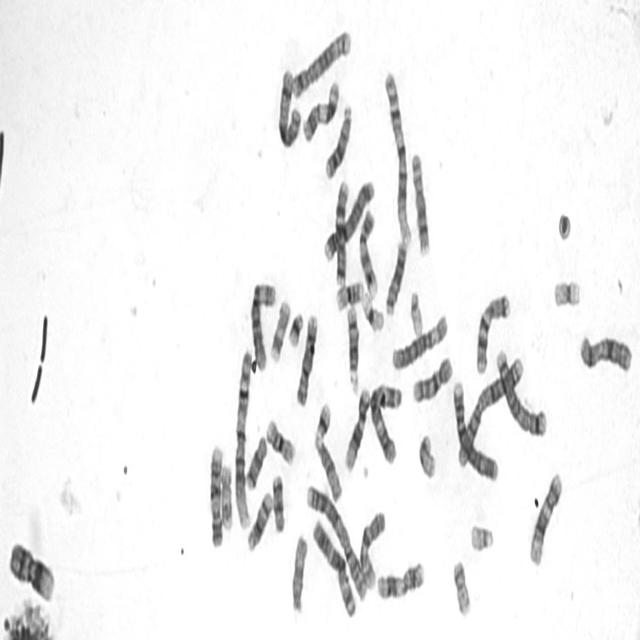A1: (381, 62, 412, 247), (231, 342, 253, 532)
A2: (453, 347, 525, 469), (303, 477, 368, 605)
A3: (309, 511, 358, 620), (366, 374, 404, 467)
B4: (449, 373, 499, 484), (321, 172, 376, 263)
B5: (493, 342, 548, 438), (289, 22, 353, 100)
C10: (356, 503, 387, 593), (409, 348, 454, 405)
C11: (300, 73, 340, 144), (374, 554, 426, 603)
C12: (526, 464, 563, 568), (341, 380, 371, 473)
C6: (388, 305, 449, 372), (247, 274, 278, 372)
C7: (472, 284, 512, 376), (332, 173, 351, 287)
C8: (293, 306, 319, 408), (408, 144, 431, 258)
C9: (356, 201, 380, 300), (207, 436, 224, 550)
D13: (322, 95, 354, 181), (382, 232, 408, 316)
D14: (244, 484, 273, 553), (343, 298, 360, 394)
D15: (312, 430, 343, 504), (288, 527, 308, 615)
E16: (262, 410, 296, 467), (333, 274, 364, 313)
E17: (267, 292, 291, 364), (218, 458, 234, 531)
E18: (243, 428, 268, 491), (269, 467, 286, 535)
F19: (358, 285, 385, 335), (550, 269, 582, 310)
F20: (449, 553, 472, 618), (415, 428, 437, 480)
G21: (312, 395, 332, 442), (285, 303, 305, 348)
G22: (467, 517, 495, 554), (406, 283, 425, 337)
X: (576, 324, 634, 376), (274, 61, 302, 149)
